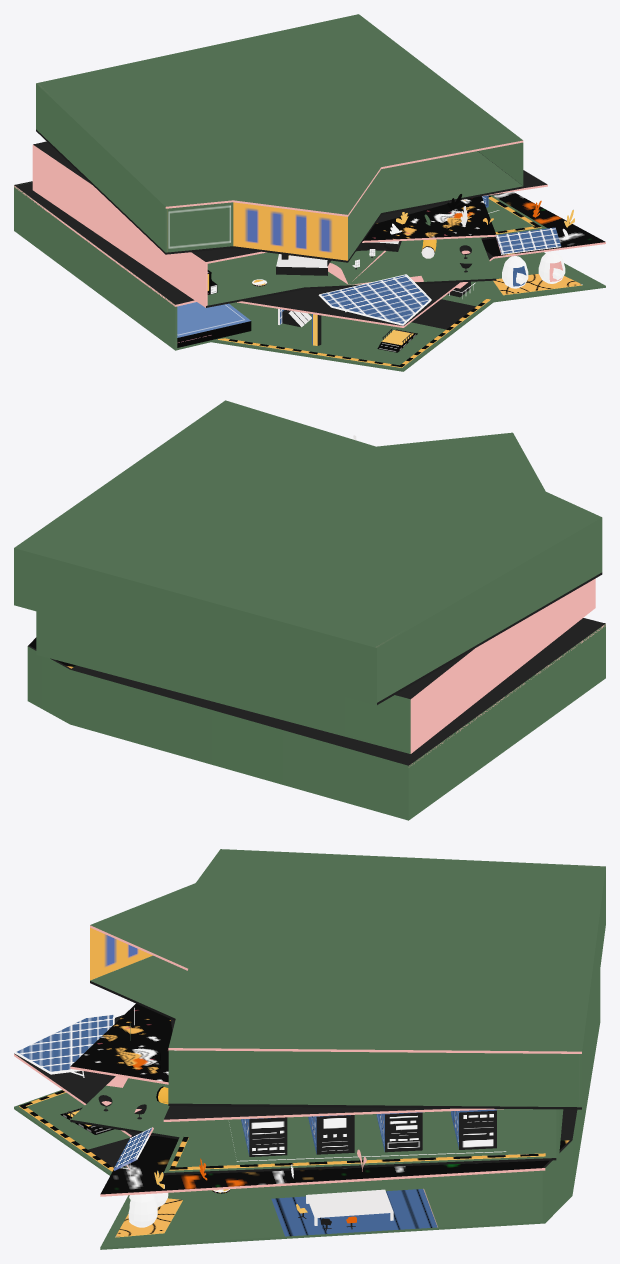
3 views of the same model, one above another, from view 1: azimuth 30°, elevation 25°; view 2: azimuth 150°, elevation 25°; view 3: azimuth 270°, elevation 25° (orthographic). The views are drawn at different scales.
Visible parts, largest first — view 1: 挤压_2_3, 平面_1, 太阳能_大, 平面_3_2, CC, 挤压_2_2, 太阳能_小, 平面_2, 平面_4, 立方体_4, 球体_1, 球体 (+2 smaller); view 2: 挤压_2_3; view 3: 挤压_2_3, 平面_4, 立方体_4_2, 平面, 太阳能_大, 立方体, 平面_1, jixiang, 立方体_2_7, 立方体_1_6, 立方体_7, _B_Y_1 (+5 smaller).
Part boxes in pixels (left/top/right/bottom): 挤压_2_3: left=14, top=14, right=605, bottom=371; 平面_1: left=233, top=202, right=347, bottom=260; 太阳能_大: left=318, top=274, right=431, bottom=325; 平面_3_2: left=167, top=202, right=233, bottom=252; CC: left=177, top=302, right=251, bottom=347; 挤压_2_2: left=276, top=241, right=401, bottom=275; 太阳能_小: left=496, top=227, right=561, bottom=254; 平面_2: left=411, top=299, right=475, bottom=329; 平面_4: left=478, top=142, right=523, bottom=185; 立方体_4: left=493, top=274, right=582, bottom=295; 球体_1: left=538, top=251, right=565, bottom=283; 球体: left=502, top=256, right=528, bottom=288; 挤压_2_3: left=14, top=400, right=605, bottom=820; 挤压_2_3: left=14, top=849, right=605, bottom=1249; 平面_4: left=168, top=1050, right=579, bottom=1106; 立方体_4_2: left=228, top=1109, right=506, bottom=1161; 平面: left=271, top=1188, right=437, bottom=1236; 太阳能_大: left=14, top=1014, right=114, bottom=1077; 立方体: left=306, top=1189, right=393, bottom=1225; 平面_1: left=90, top=927, right=152, bottom=980; jixiang: left=451, top=1109, right=496, bottom=1149; 立方体_2_7: left=376, top=1112, right=422, bottom=1152; 立方体_1_6: left=308, top=1115, right=354, bottom=1154; 立方体_7: left=241, top=1117, right=287, bottom=1156; _B_Y_1: left=169, top=1153, right=545, bottom=1170.
Bounding box in the file's own units: 3121 × 1068 × 3379.
